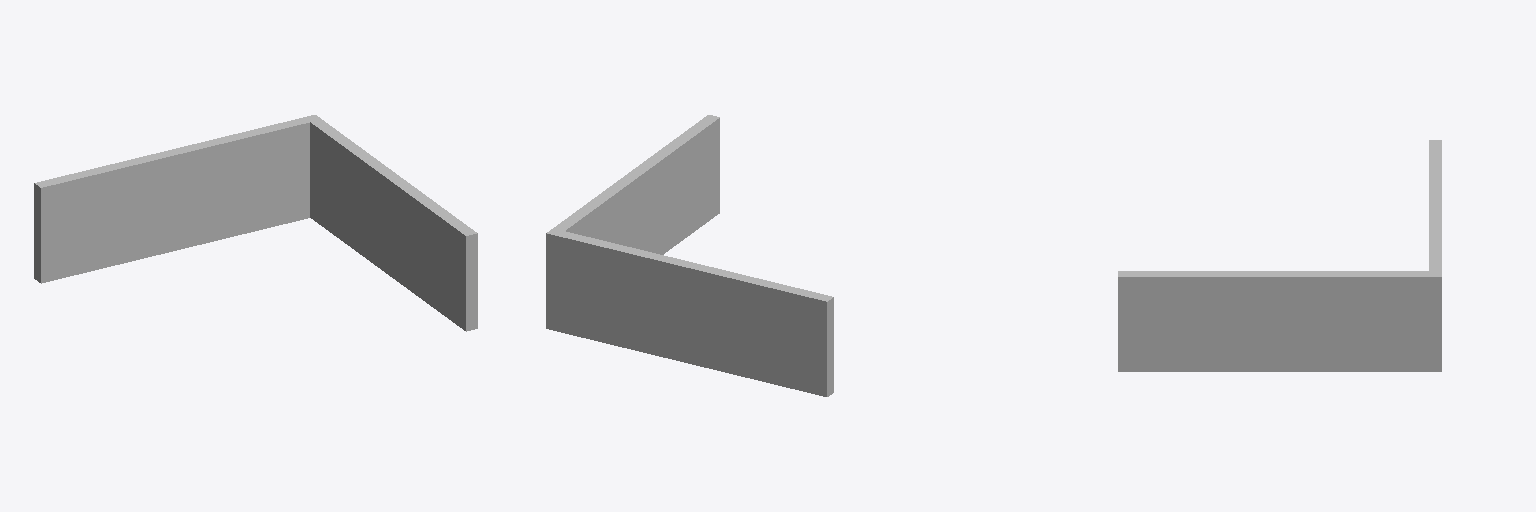
Rendered from Wall.obj.
3 renders of one model, left to right at view 1: azimuth 30°, elevation 25°; view 2: azimuth 150°, elevation 25°; view 3: azimuth 270°, elevation 25°, orthographic.
Visible parts, largest first — view 1: object 1; view 2: object 1; view 3: object 1.
Part boxes in pixels (bbox=[...]): object 1: bbox=[34, 115, 477, 331]; object 1: bbox=[546, 115, 833, 396]; object 1: bbox=[1118, 140, 1441, 371].
Size of the model in its own units: 12 by 3.9 by 12.